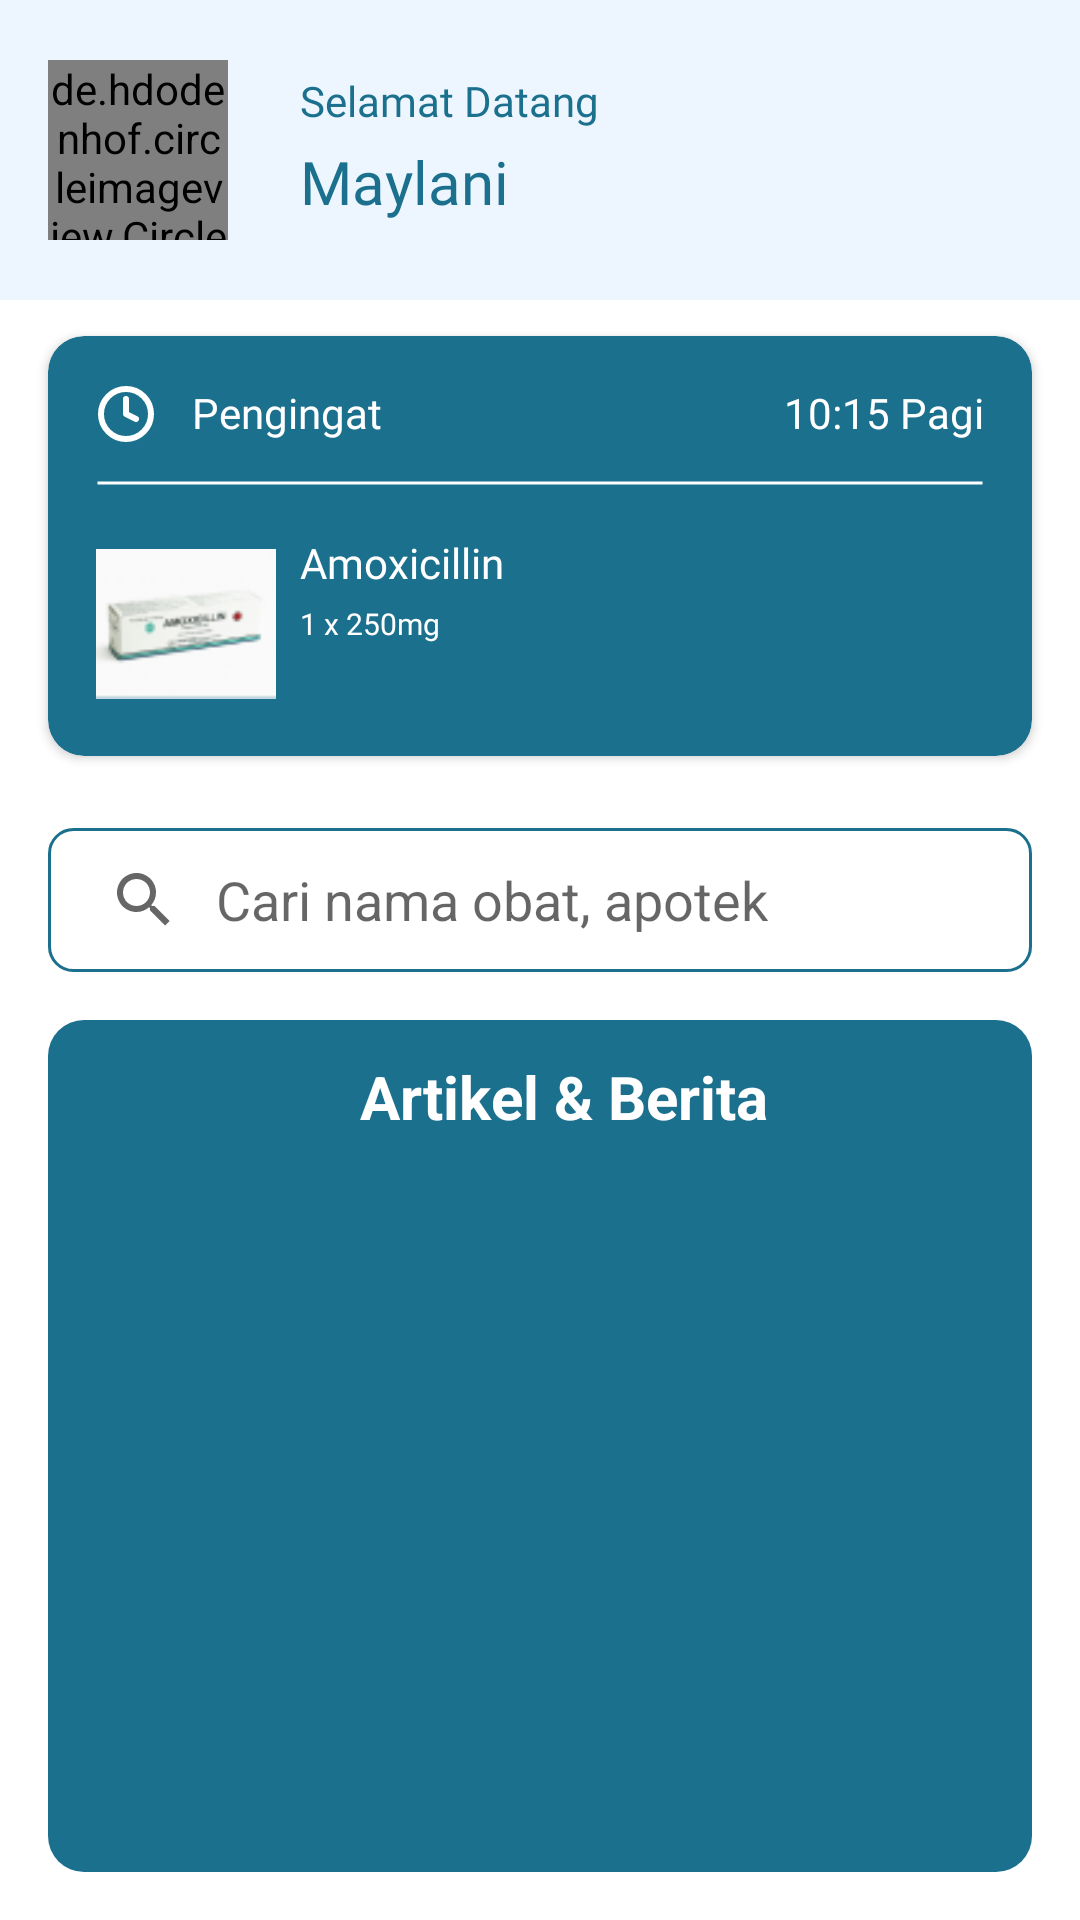

Where to tap for icons on this 1080x1920 app screen, as (x=x, y=y):
Foto Obat: (x=186, y=624)
Icon Clock: (x=126, y=414)
